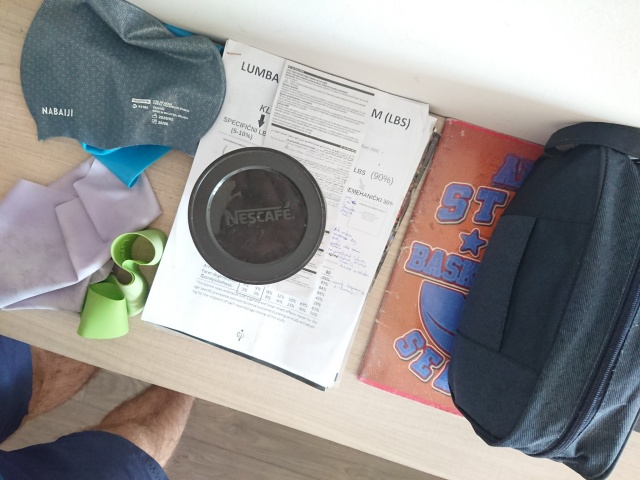Nescafe Classic 225g: (181, 141, 334, 292)
